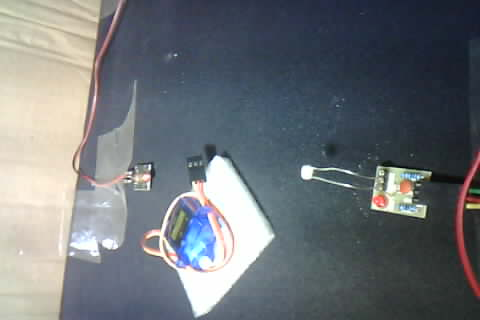motor: (152, 150, 267, 297)
